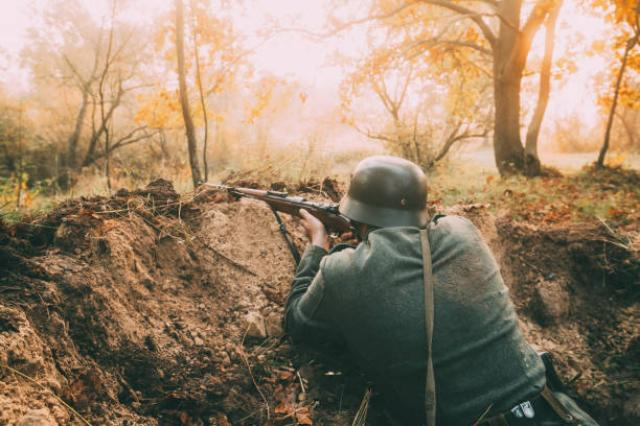other: (290, 164, 512, 422)
